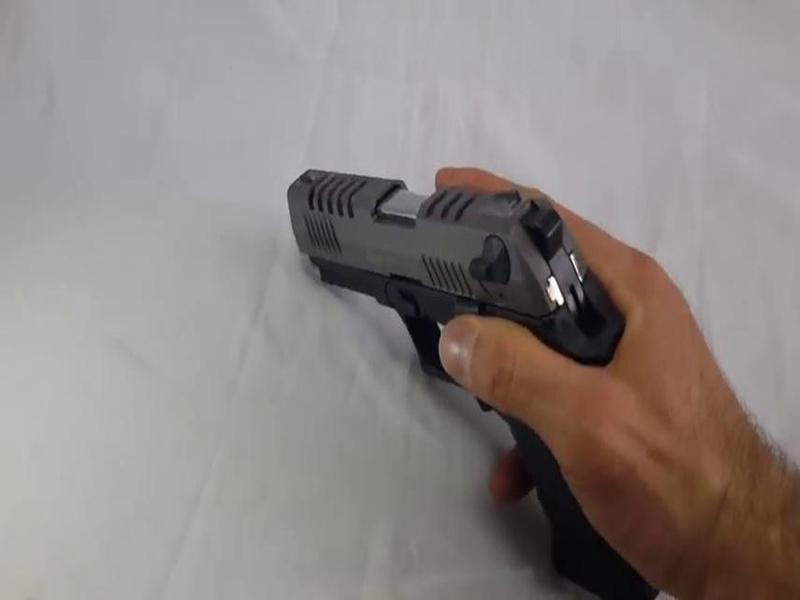Pistola: (272, 143, 678, 599)
